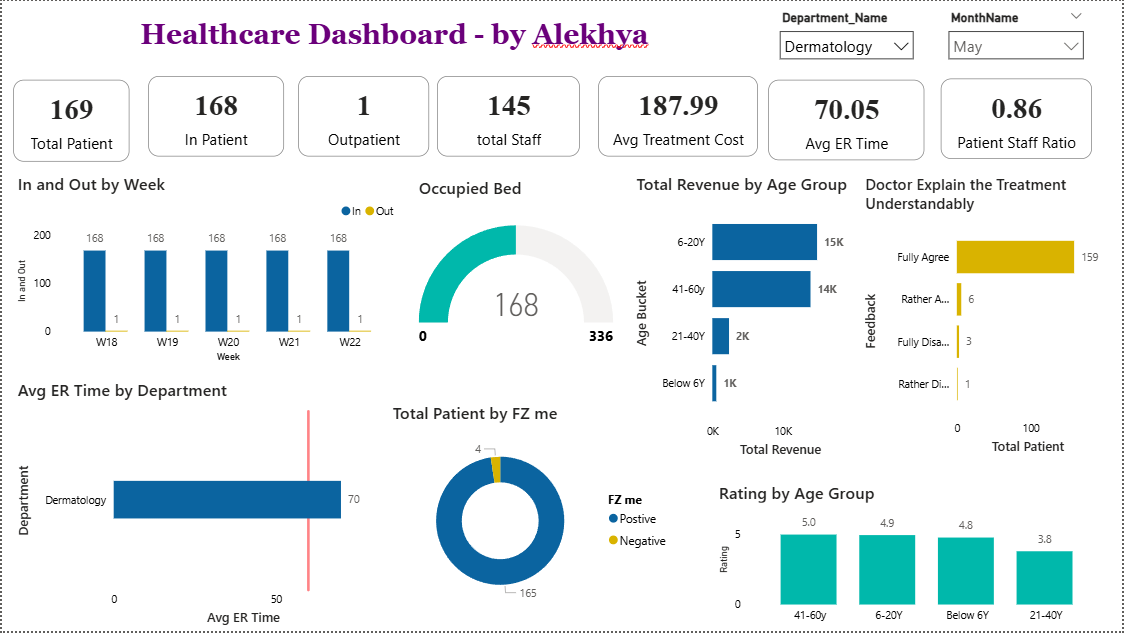

The dashboard page shown, as its layout file describes it:
{"tool":"powerbi","page":{"name":"Hospital Summary ","canvas":[1280,720],"ordinal":0},"visuals":[{"type":"cardVisual","fields":{"Data":["Measure.Total Patient"]},"box":[12.3,90.5,133,93.2],"z":1000},{"type":"textbox","box":[32.5,13.8,831.2,65],"z":2000},{"type":"slicer","fields":{"Values":["Department.Department_Name"]},"box":[878.9,6.1,173.6,69.7],"z":3000},{"type":"slicer","fields":{"Values":["Calendar_date.MonthName"]},"box":[1071.2,6.2,175,70],"z":4000},{"type":"cardVisual","fields":{"Data":["Measure.In Patient"]},"box":[167.3,85,154.9,91.9],"z":5000},{"type":"cardVisual","fields":{"Data":["Measure.Outpatient"]},"box":[338.6,85,149.4,91.9],"z":6000},{"type":"cardVisual","fields":{"Data":["Bed_Detail.total Staff"]},"box":[497.7,86.4,163.2,91.9],"z":7000},{"type":"cardVisual","fields":{"Data":["Measure.Avg Treatment Cost"]},"box":[681.4,86.4,182.3,91.9],"z":8000},{"type":"cardVisual","fields":{"Data":["Measure.Avg ER Time"]},"box":[876.1,90.5,178.2,91.9],"z":9000},{"type":"cardVisual","fields":{"Data":["Bed_Detail.Patient Staff Ratio"]},"box":[1073.5,89.1,172.8,91.9],"z":10000},{"type":"clusteredColumnChart","fields":{"Y":["Calendar_date.In Patient","Calendar_date.Outpatient"],"Category":["Calendar_date.WeekName"]},"box":[12.3,196.1,444.2,222.1],"z":11000},{"type":"gauge","fields":{"Y":["Divide(Measure.Occupied Bed, ScopedEval(Measure.Occupied Bed, []))"]},"box":[471.9,200.5,232.3,231],"z":12000},{"type":"clusteredBarChart","title":"Total Revenue by Age Group","fields":{"Y":["Measure.Total Revenue"],"Category":["Detail data dataset.Age Bucket"]},"box":[720,195.6,262.8,331.3],"z":13000},{"type":"barChart","fields":{"Y":["Measure.Avg ER Time"],"Category":["Department.Department_Name"]},"box":[12.3,431.9,423.7,287.9],"z":14000},{"type":"barChart","title":"Doctor Explain the Treatment Understandably","fields":{"Y":["Measure.Total Patient"],"Category":["Detail data dataset.Feedback"]},"box":[981.2,197.5,287.5,326.2],"z":15000},{"type":"columnChart","title":"Rating by Age Group","fields":{"Y":["Measure.Rating"],"Category":["Detail data dataset.Age Bucket"]},"box":[814.4,548.4,453.8,171.4],"z":16000},{"type":"donutChart","fields":{"Y":["Measure.Total Patient"],"Category":["Detail data dataset.FZ me"]},"box":[441.3,457.2,331.3,249.4],"z":17000}]}

Visuals, with their boxes in screenshot pixels (x1, y1, x2, y2), scaled from the page's 1280x720 canvas onto the 1124x633 screenshot:
cardVisual - Measure.Total Patient: 11,80,128,162
textbox: 29,12,758,69
slicer - Department.Department_Name: 772,5,924,67
slicer - Calendar_date.MonthName: 941,5,1094,67
cardVisual - Measure.In Patient: 147,75,283,156
cardVisual - Measure.Outpatient: 297,75,429,156
cardVisual - Bed_Detail.total Staff: 437,76,580,157
cardVisual - Measure.Avg Treatment Cost: 598,76,758,157
cardVisual - Measure.Avg ER Time: 769,80,926,160
cardVisual - Bed_Detail.Patient Staff Ratio: 943,78,1094,159
clusteredColumnChart - Calendar_date.In Patient x Calendar_date.Outpatient: 11,172,401,368
gauge - Divide(Measure.Occupied Bed, ScopedEval(Measure.Occupied Bed, [])): 414,176,618,379
"Total Revenue by Age Group" clusteredBarChart: 632,172,863,463
barChart - Measure.Avg ER Time x Department.Department_Name: 11,380,383,632
"Doctor Explain the Treatment Understandably" barChart: 862,174,1114,460
"Rating by Age Group" columnChart: 715,482,1114,632
donutChart - Measure.Total Patient x Detail data dataset.FZ me: 388,402,678,621
